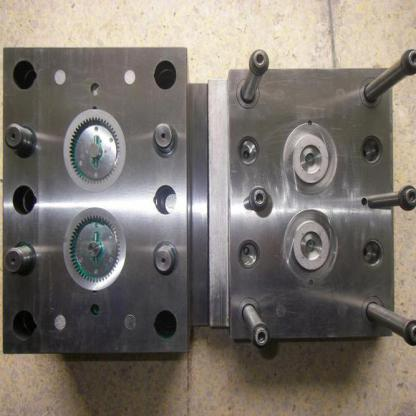FOD: (64, 109, 126, 192)
